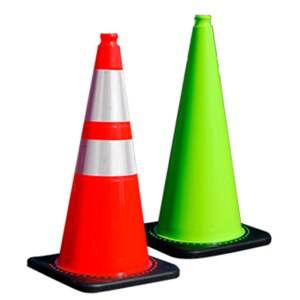traffic cone: (28, 33, 180, 293), (129, 15, 272, 259)
